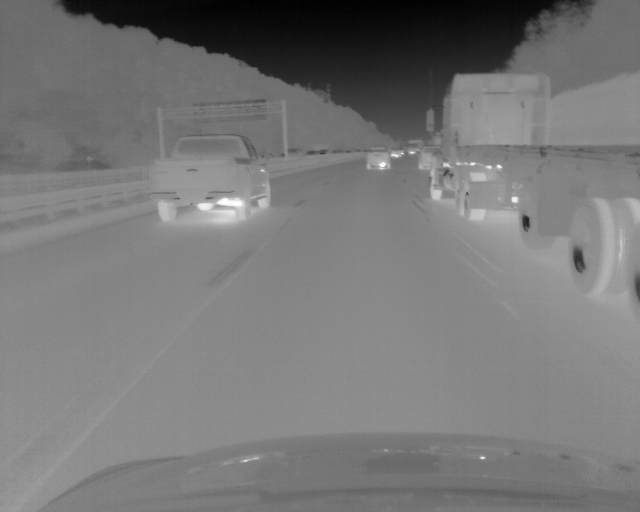car: (423, 70, 640, 326), (147, 132, 272, 224), (366, 146, 391, 170), (418, 146, 443, 170), (308, 148, 327, 156), (288, 147, 301, 157), (391, 148, 402, 158)
